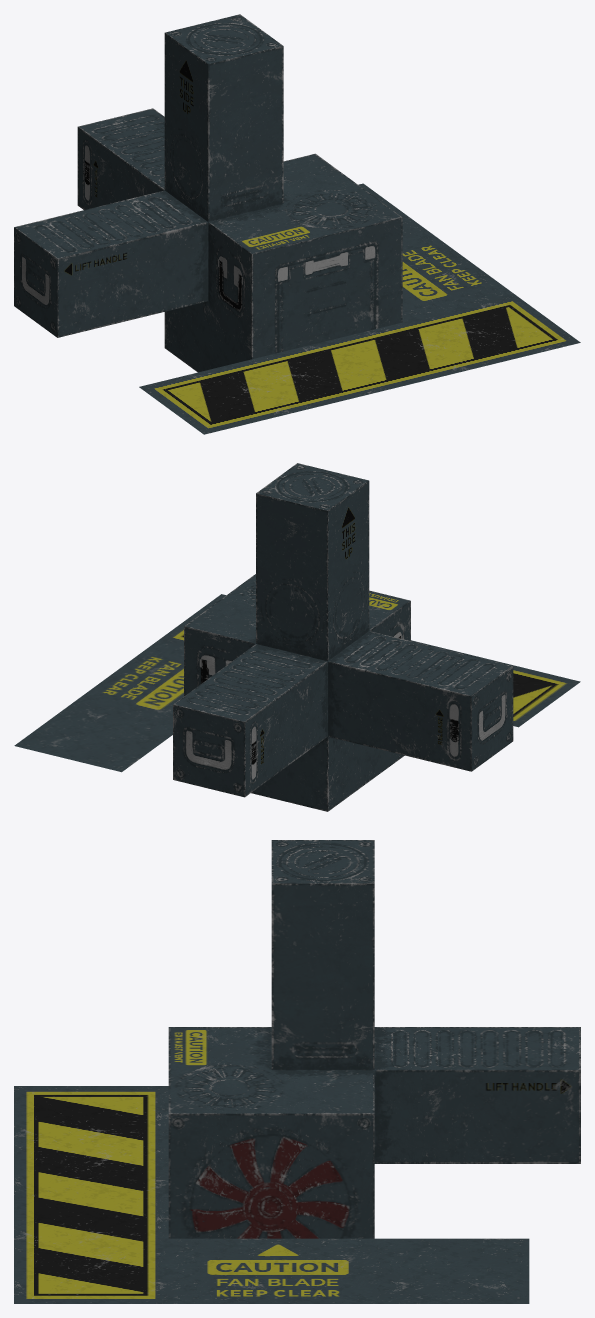
The model's file is Node_Attribute_06.gltf.
3 views of the same model, one above another, from view 1: azimuth 30°, elevation 25°; view 2: azimuth 150°, elevation 25°; view 3: azimuth 270°, elevation 25° (orthographic). The views are drawn at different scales.
Parts seen in each view (by area): view 1: Node1, Node0; view 2: Node1, Node0; view 3: Node1, Node0.
Boxes of the visible parts, x1,y1,x2,y2 form: Node1: (14, 14, 402, 372); Node0: (139, 183, 580, 434); Node1: (173, 463, 513, 811); Node0: (14, 594, 580, 772); Node1: (168, 840, 580, 1238); Node0: (14, 1086, 529, 1303).
Size of the model in its own units: 16.5 by 12 by 16.5.
2 materials, 2 textured.
